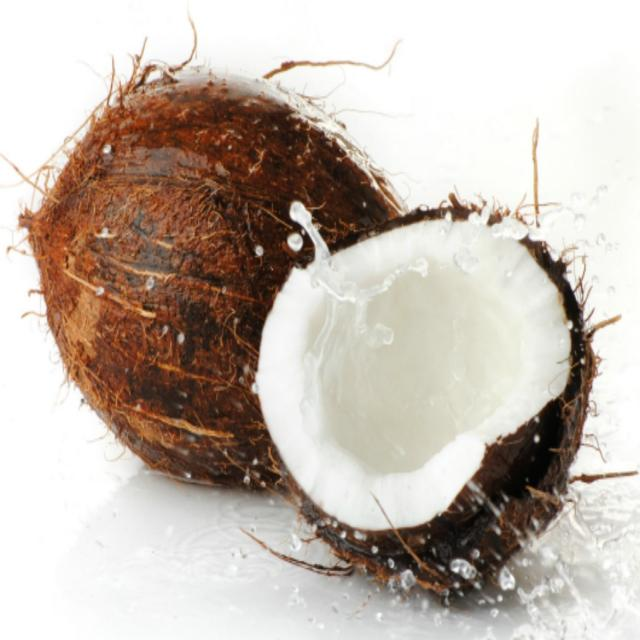coconut: (31, 57, 402, 499), (259, 203, 595, 606)
